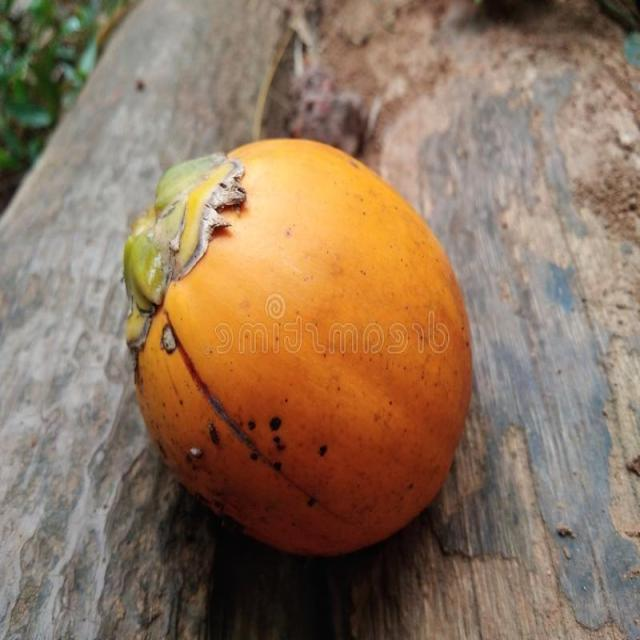good: (123, 140, 473, 562)
